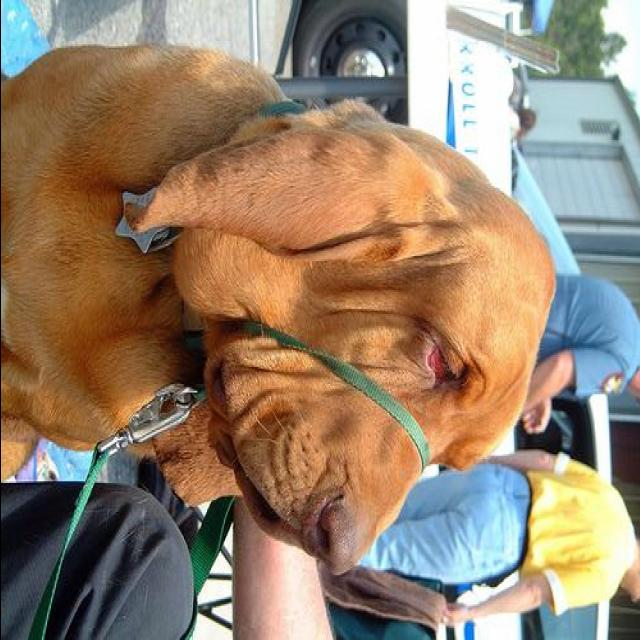bloodhound: (2, 34, 560, 580)
